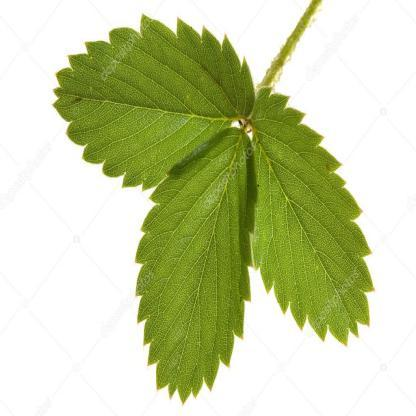Strawberry leaf: (120, 125, 263, 408), (51, 3, 258, 196), (241, 81, 380, 352)
